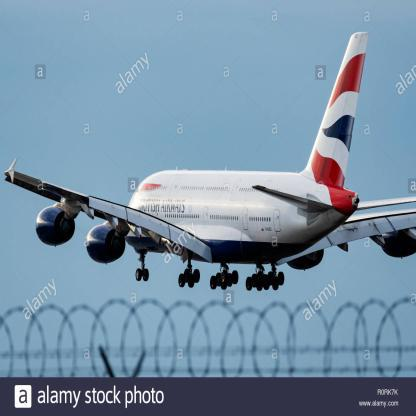CIV_Plane: (3, 28, 415, 295)
